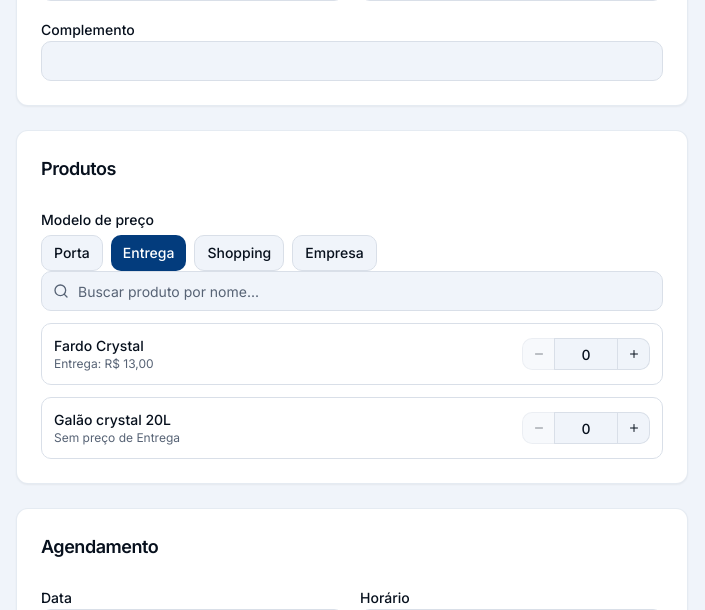
Test: Novo pedido: preço por item › cliente com modelo padrão já traz o preço desse modelo
The image size is (705, 610).
(page scrolled)
Click the button named "Aumentar" in the row of "Entrega: R$ 13,00": (634, 354) [618,338,650,370]
(page scrolled)
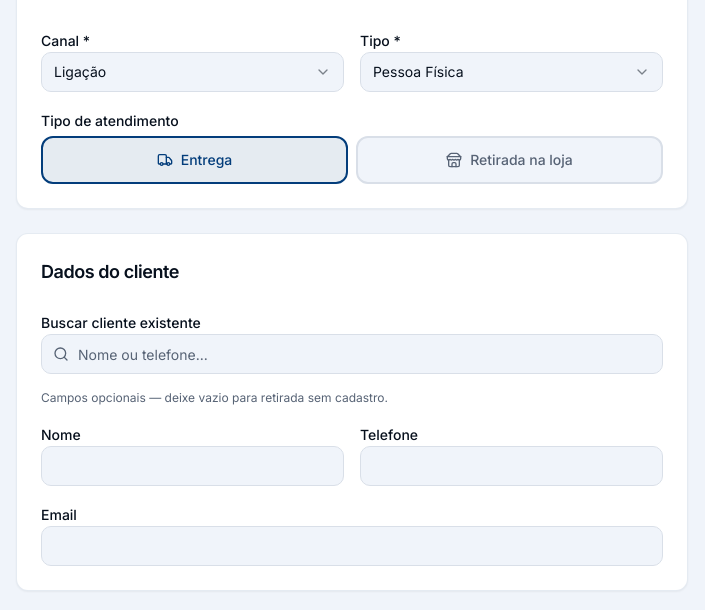
In the field with placeholder "Nome ou telefone...": (352, 354) [41,334,663,374], type "CENT"
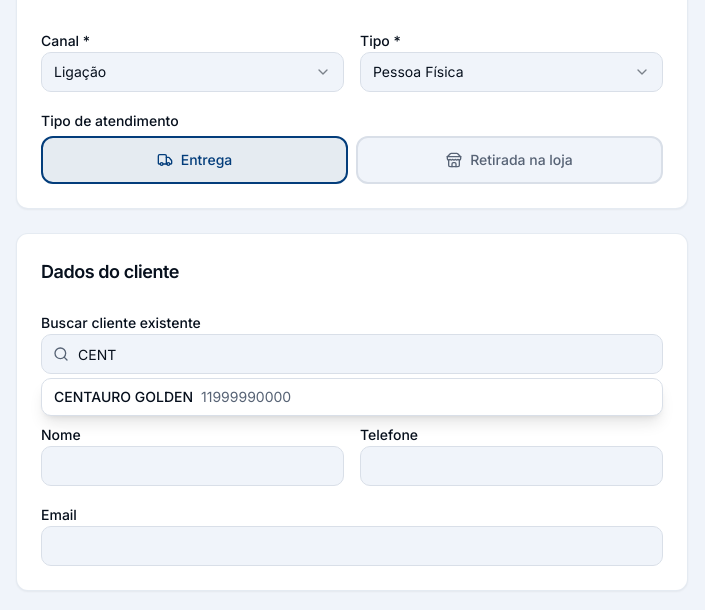
Click the text "CENTAURO GOLDEN": (124, 396) [54,388,193,405]
(page scrolled)
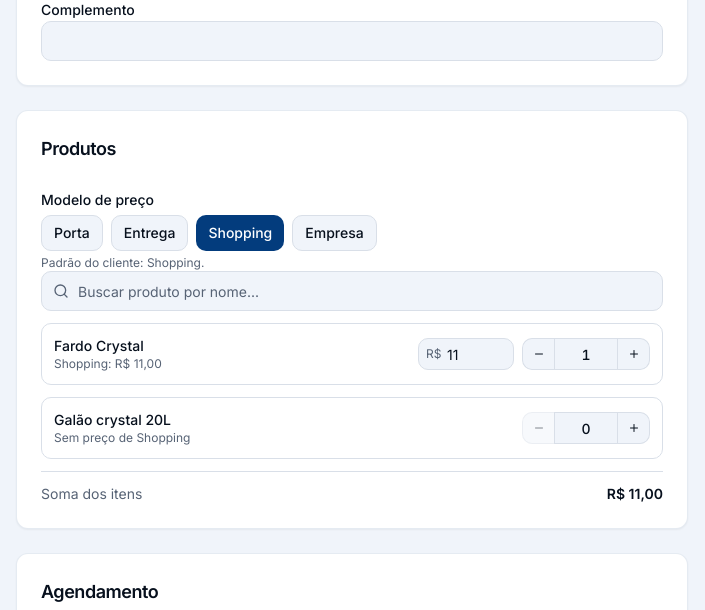
expect the text "Padrão do cliente: Shopping." is shown: met, box [41,255,204,270]
expect the field named "Preço unitário de Fardo Crystal" holds "11": met, box [418,338,514,370]
